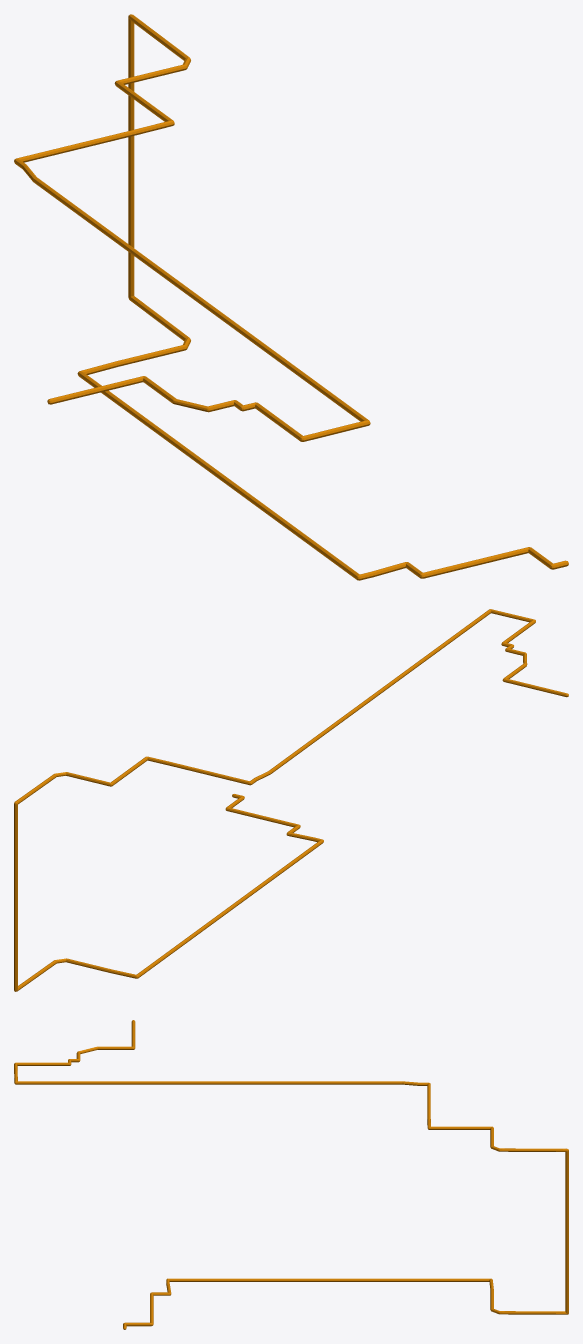
The picture shows the model from 3 angles, top to bottom: view 1: azimuth 30°, elevation 25°; view 2: azimuth 150°, elevation 25°; view 3: azimuth 270°, elevation 25°; orthographic projection. The views are drawn at different scales.
Size of the model in its own units: 1917 by 1020 by 3092.
